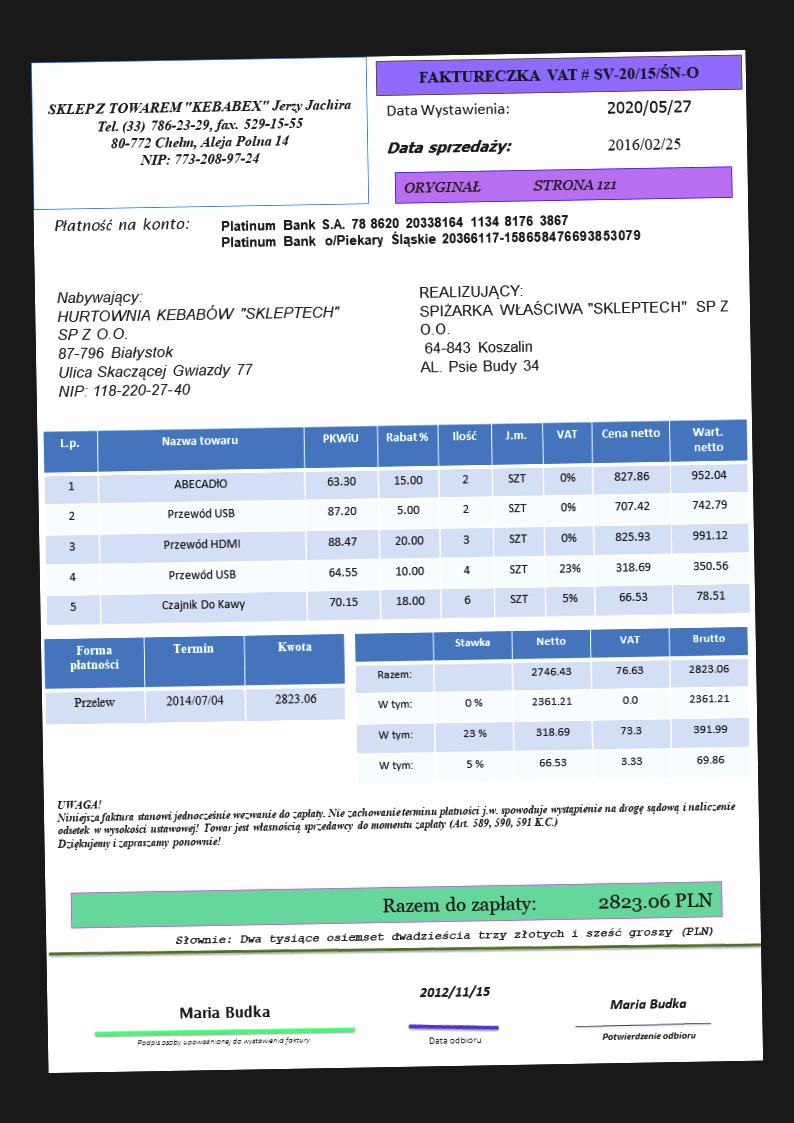Table: (41, 416, 752, 629), (351, 624, 752, 787), (43, 631, 348, 727)
TextBox: (55, 784, 738, 853), (55, 283, 345, 400), (416, 278, 733, 375), (44, 93, 353, 174), (219, 209, 645, 254), (170, 923, 715, 948), (378, 886, 715, 921), (417, 59, 706, 89), (401, 175, 619, 197), (52, 214, 190, 235), (133, 1033, 315, 1048), (382, 99, 512, 119), (384, 139, 514, 158), (604, 95, 694, 119), (175, 1002, 274, 1022), (600, 1027, 699, 1044), (606, 995, 690, 1013), (416, 982, 494, 1000), (606, 135, 683, 152), (425, 1032, 486, 1048)
